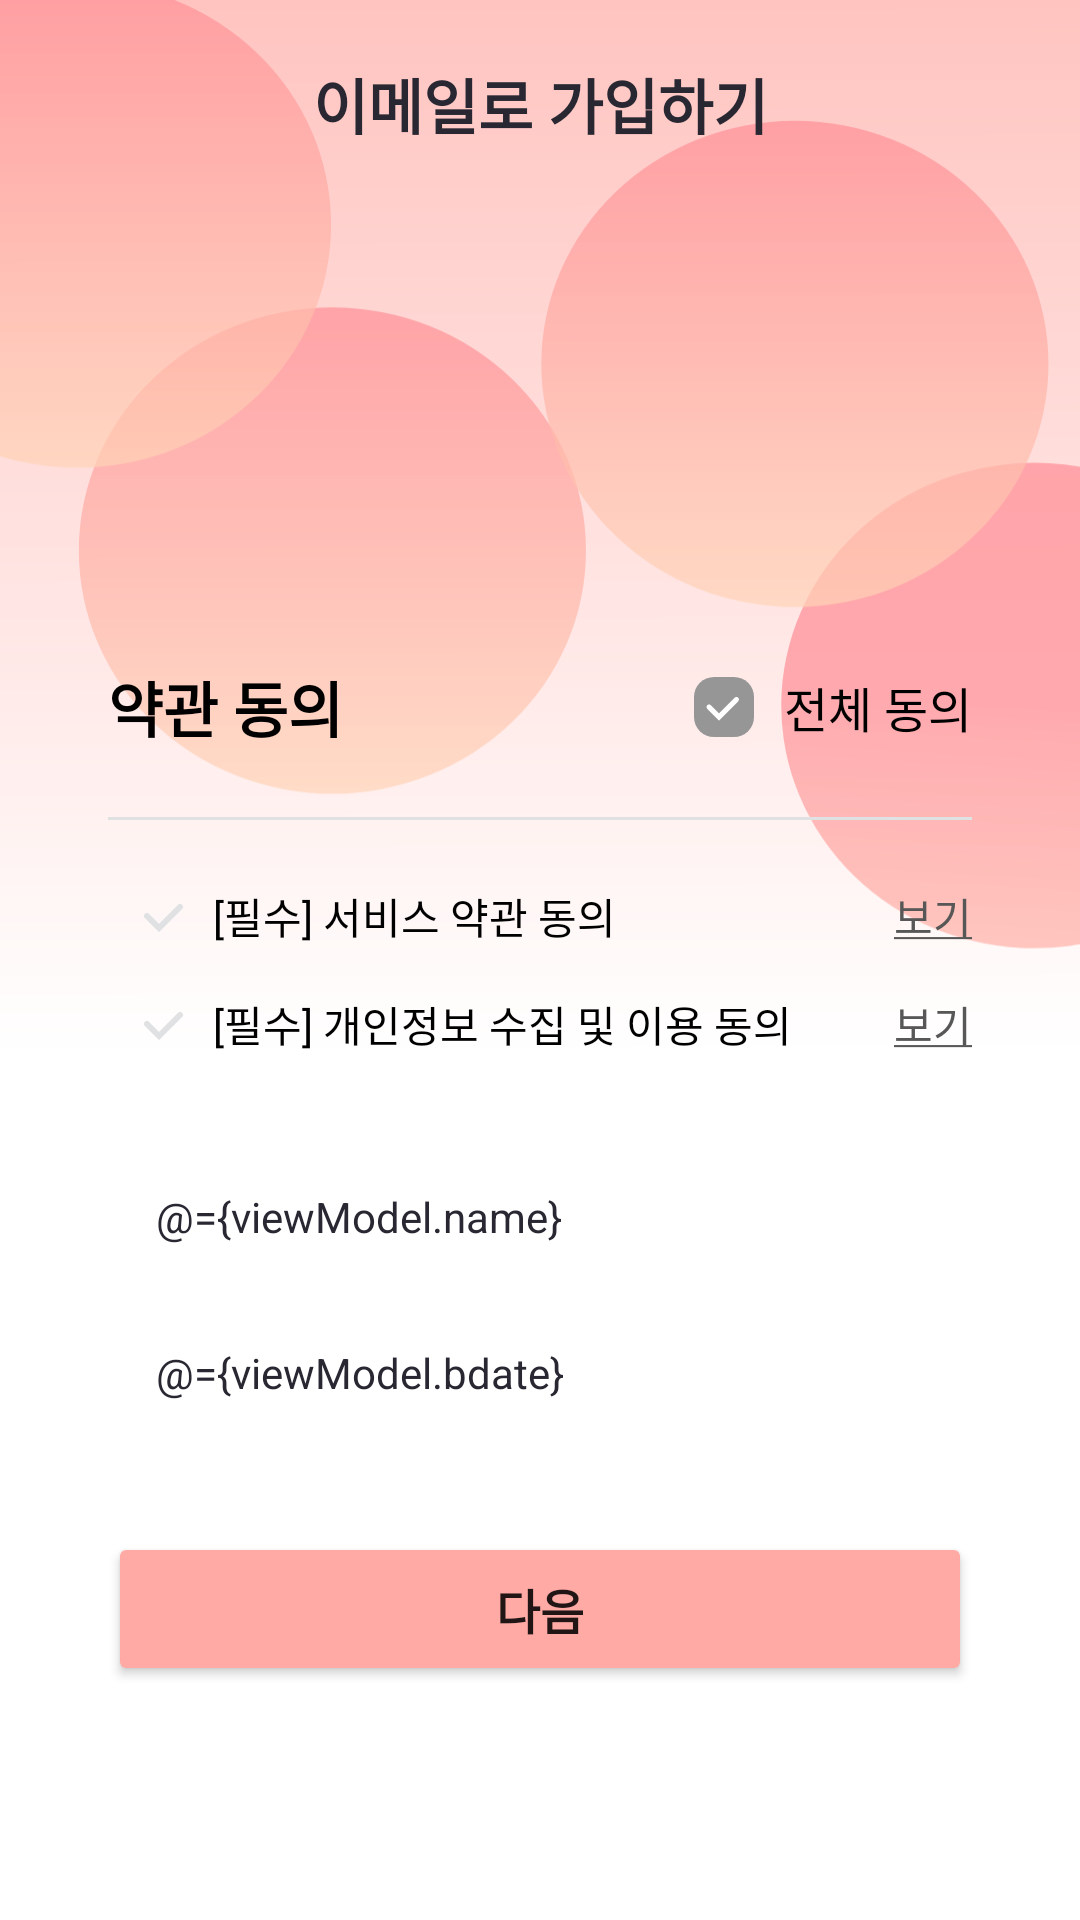

Locate icon controls on the screen. Image size 1080px×1920px, boxes as (x1, y1, x2, y2).
unchecked: (144, 904, 183, 931), (144, 1012, 183, 1039)
